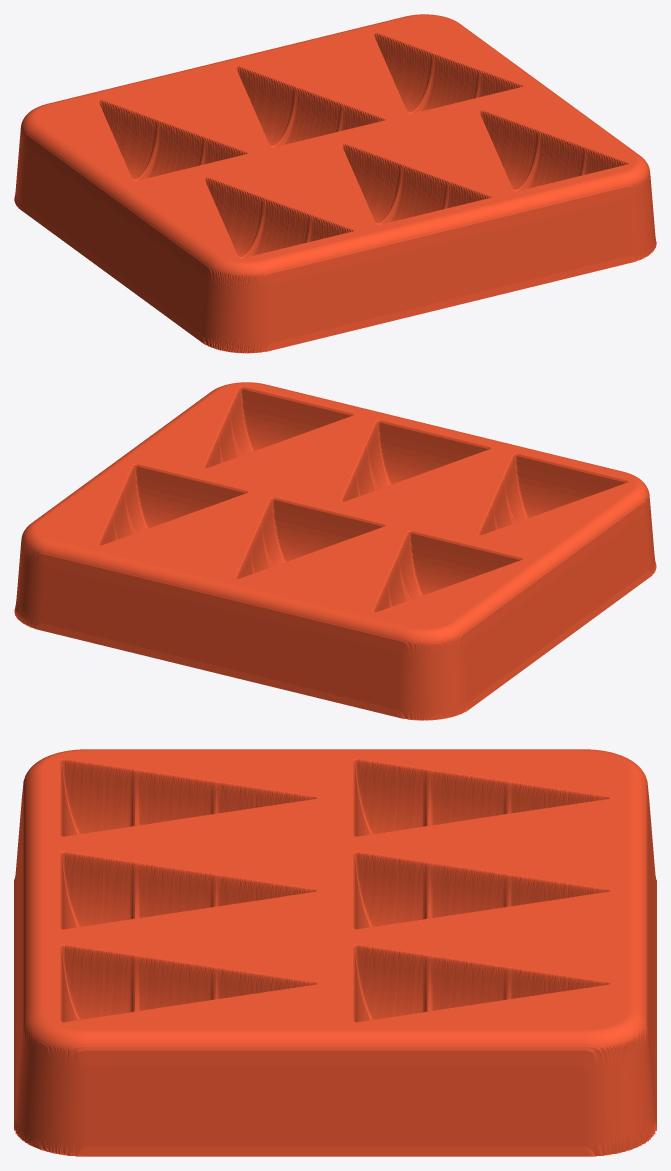
Rendered from mold.glb.
3 views of the same model, one above another, from view 1: azimuth 30°, elevation 25°; view 2: azimuth 150°, elevation 25°; view 3: azimuth 270°, elevation 25° (orthographic). The views are drawn at different scales.
Visible parts, largest first — view 1: geometry_0; view 2: geometry_0; view 3: geometry_0.
Boxes of the visible parts, left/top/right/bottom form: geometry_0: left=14, top=14, right=656, bottom=353; geometry_0: left=14, top=382, right=656, bottom=720; geometry_0: left=14, top=749, right=656, bottom=1156.
Bounding box in the file's own units: 0.09 × 0.0159 × 0.0808.
